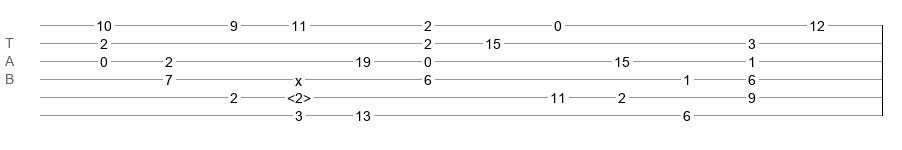0: (100, 54, 108, 64), (424, 54, 432, 64), (554, 18, 562, 28)
1: (683, 72, 691, 82), (748, 54, 756, 64)
10: (96, 18, 112, 28)
11: (291, 18, 307, 28), (550, 90, 566, 100)
12: (809, 18, 825, 28)
13: (355, 108, 371, 118)
15: (485, 36, 501, 46), (614, 54, 630, 64)
19: (355, 54, 371, 64)
2: (100, 36, 108, 46), (165, 54, 173, 64), (230, 90, 238, 100), (424, 18, 432, 28), (424, 36, 432, 46), (618, 90, 626, 100)
3: (295, 108, 303, 118), (748, 36, 756, 46)
6: (424, 72, 432, 82), (683, 108, 691, 118), (748, 72, 756, 82)
7: (165, 72, 173, 82)
9: (230, 18, 238, 28), (748, 90, 756, 100)
harmonic: (287, 90, 311, 100)
x: (295, 73, 302, 81)
